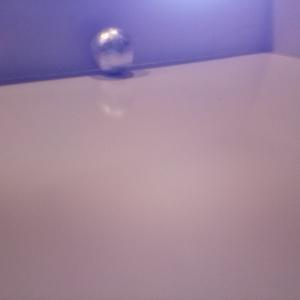alive_ball: (88, 27, 133, 73)
